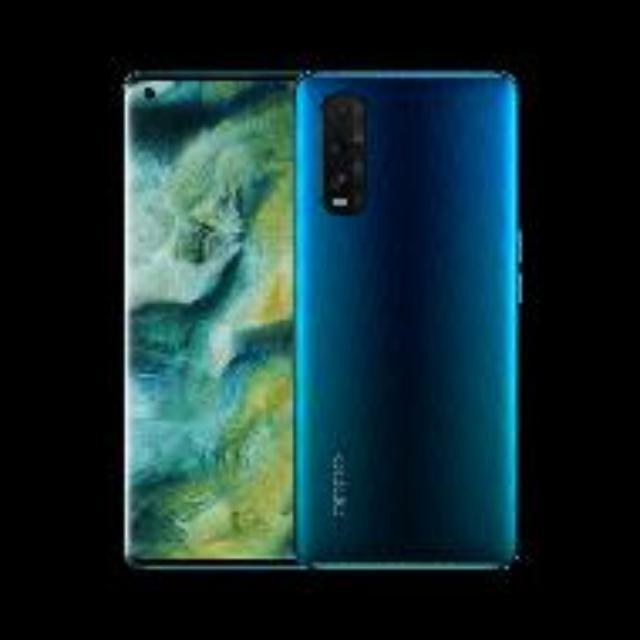PhoneUse: (299, 71, 517, 569), (125, 71, 293, 569)
